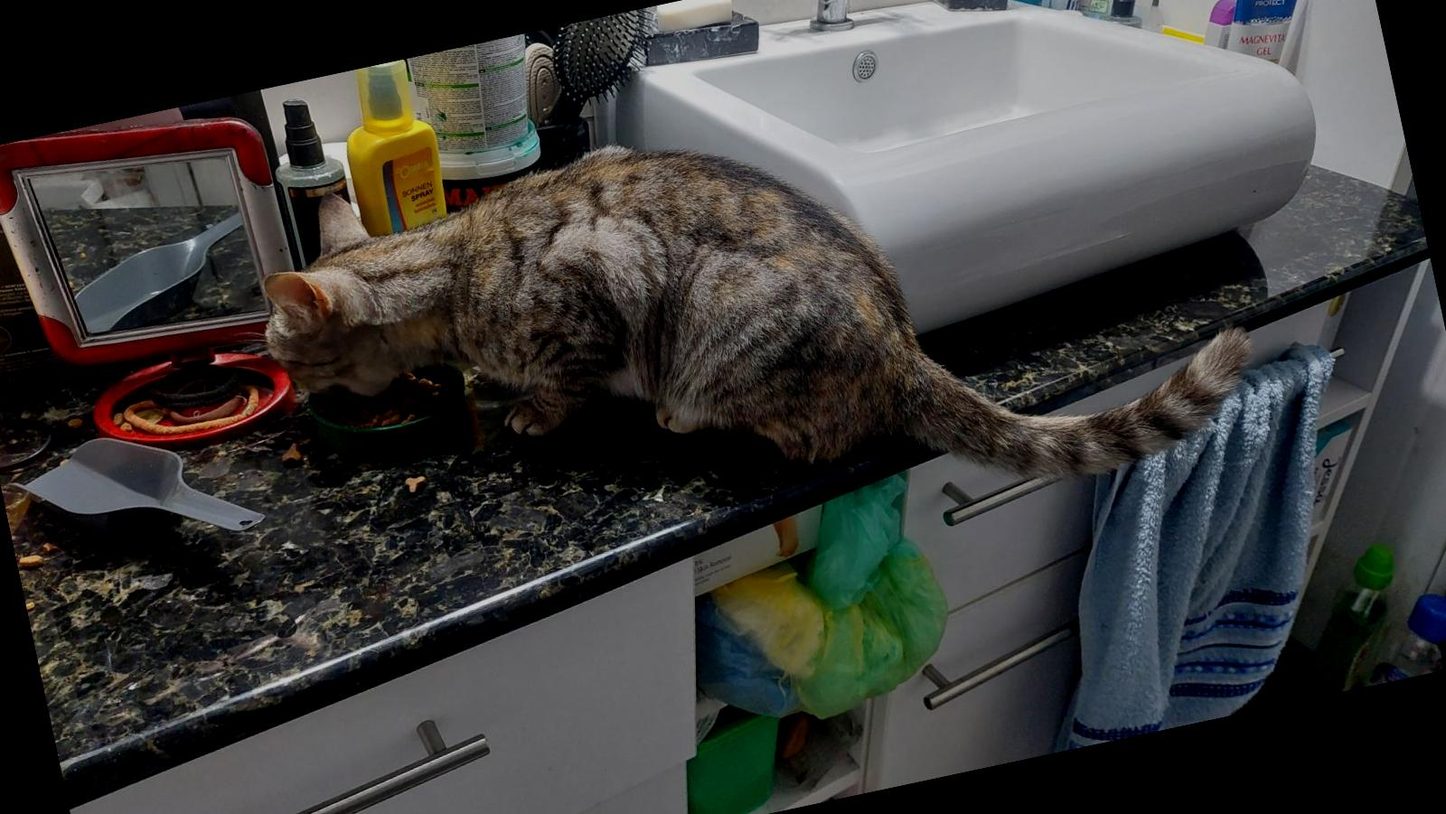macka: (235, 11, 1272, 641)
